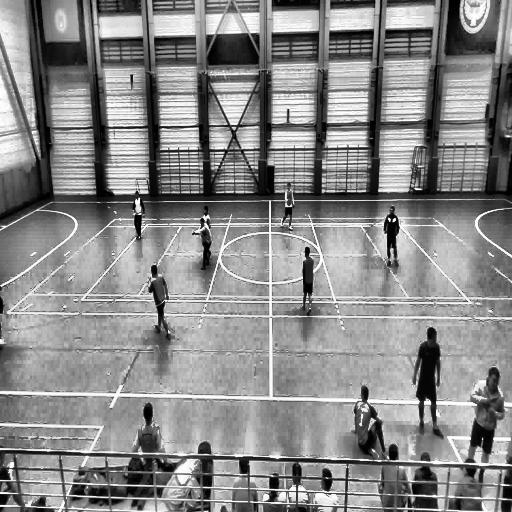ball: (0, 337, 5, 353)
player: (414, 323, 442, 436), (148, 264, 172, 339), (192, 216, 212, 271), (384, 207, 399, 268), (302, 246, 314, 315), (280, 182, 295, 232), (132, 188, 145, 240), (202, 203, 212, 258)
